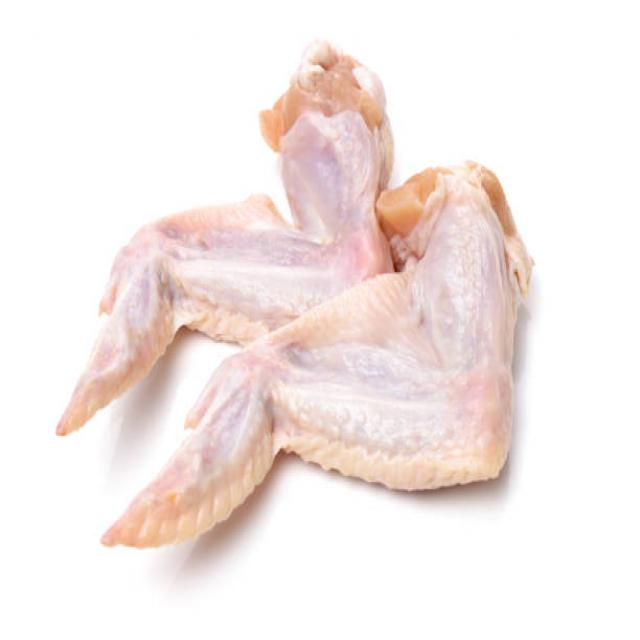Chicken: (108, 156, 541, 581), (49, 46, 386, 428)
